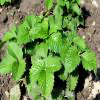Strawberry leaf: (39, 69, 55, 97), (64, 47, 81, 73), (28, 58, 45, 83), (80, 51, 98, 74), (47, 31, 64, 55), (35, 16, 50, 39), (6, 41, 23, 61), (48, 14, 63, 35), (43, 57, 62, 73), (12, 62, 26, 83), (17, 25, 31, 45), (3, 55, 17, 75), (71, 35, 86, 51), (26, 11, 37, 28)
